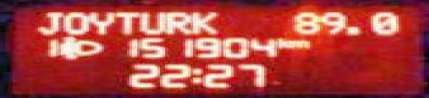-: (343, 24, 358, 34)
0: (365, 10, 398, 34), (220, 34, 246, 58)
1: (40, 37, 55, 57), (122, 37, 137, 57), (177, 36, 190, 57)
2: (200, 62, 231, 88), (159, 62, 190, 88), (124, 62, 154, 88)
4: (246, 36, 274, 57)
5: (137, 35, 165, 58)
7: (233, 61, 266, 87)
8: (289, 10, 317, 34)
9: (317, 9, 342, 34), (192, 35, 218, 58)
X: (187, 10, 218, 34), (33, 9, 61, 34), (137, 9, 162, 34), (60, 10, 86, 34), (111, 10, 137, 34), (162, 10, 187, 34), (89, 10, 112, 34), (188, 65, 200, 84), (289, 38, 307, 48), (276, 35, 289, 48)
